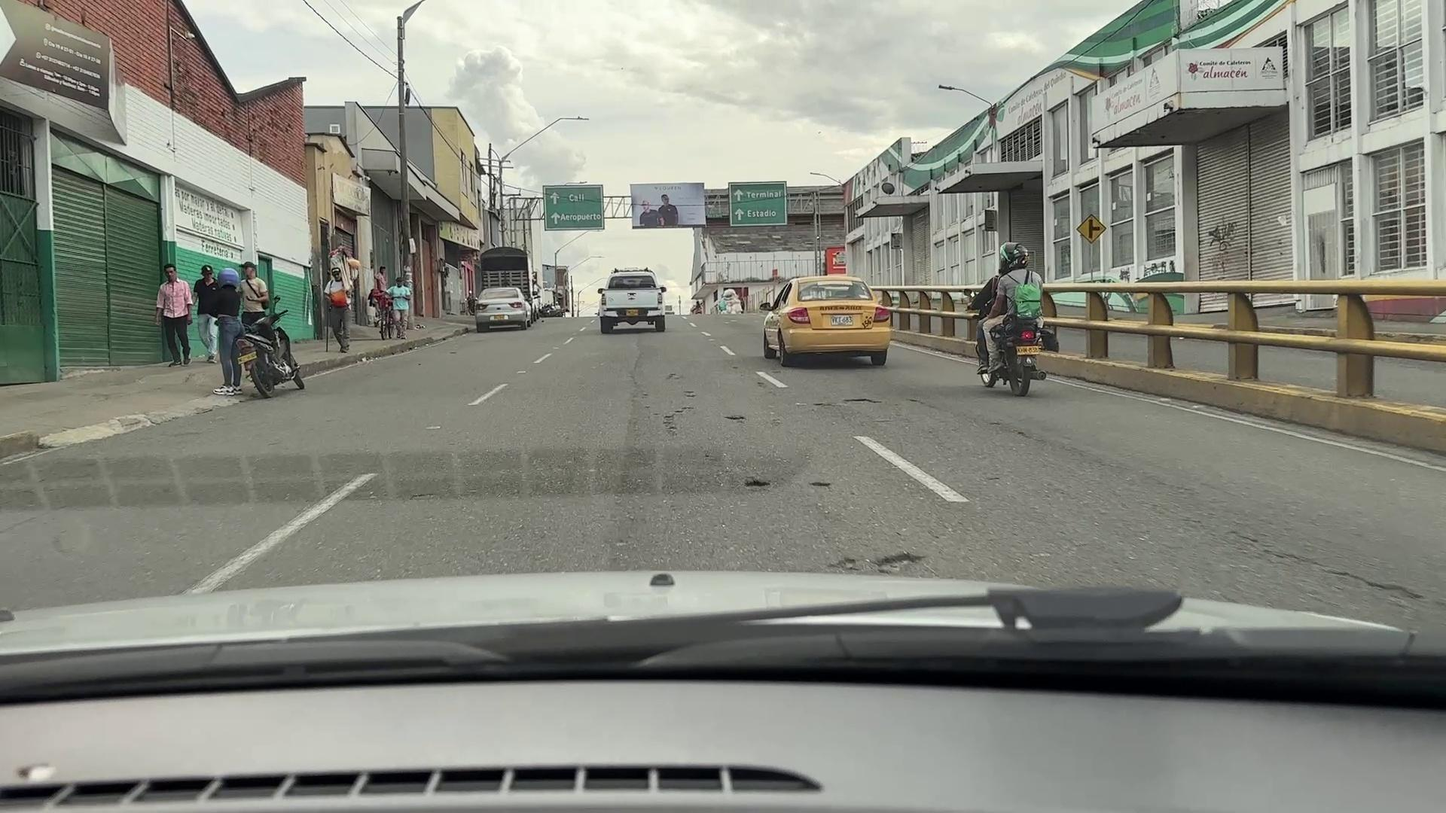bache: (874, 552, 924, 571), (831, 556, 855, 569), (663, 414, 677, 436), (745, 477, 769, 487), (844, 397, 880, 402), (674, 407, 694, 413), (810, 481, 831, 486), (725, 416, 746, 421)
